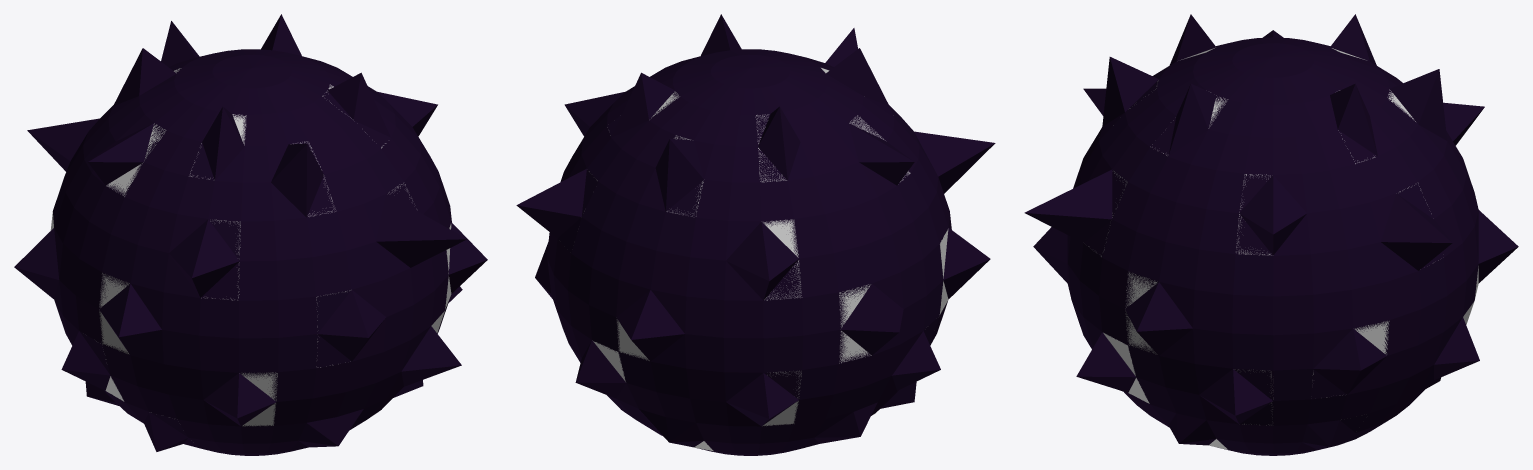
The model's file is TD_HardEnemy.obj.
3 views of the same model, side by side, from view 1: azimuth 30°, elevation 25°; view 2: azimuth 150°, elevation 25°; view 3: azimuth 270°, elevation 25° (orthographic). The views are drawn at different scales.
Visible parts, largest first — view 1: 球.001, 球.002; view 2: 球.001, 球.002; view 3: 球.001, 球.002.
Boxes of the visible parts, <box> form: 球.001: <box>14,14,487,455</box>; 球.002: <box>50,68,451,426</box>; 球.001: <box>516,14,995,455</box>; 球.002: <box>584,68,948,451</box>; 球.001: <box>1024,14,1518,455</box>; 球.002: <box>1088,47,1478,449</box>.
Size of the model in its own units: 2.19 by 2.04 by 2.36.
